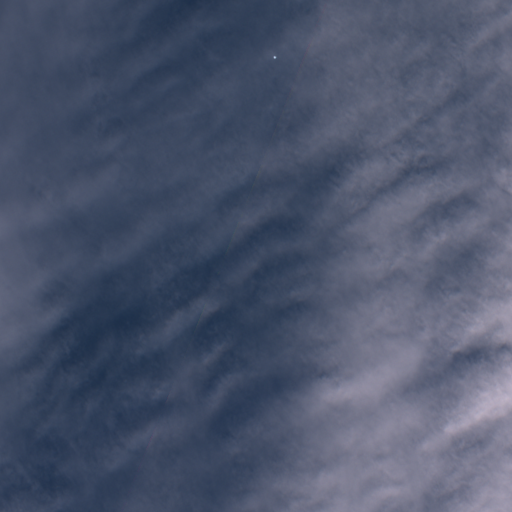Iceberg: (273, 56, 276, 58)
